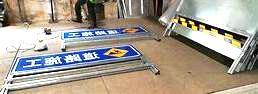sign: (13, 46, 138, 70), (62, 27, 149, 37)
